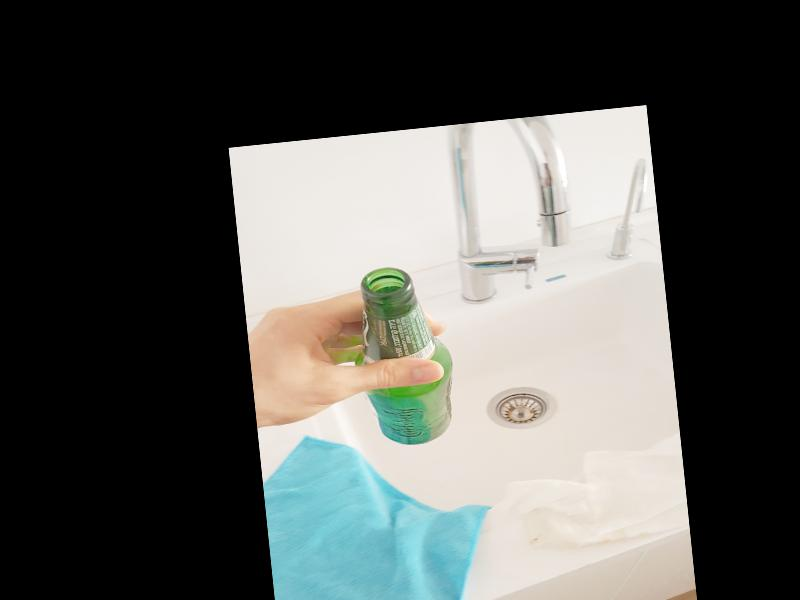Beer: (347, 262, 461, 450)
